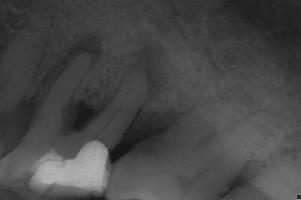Endo-Periodontal Lesion: (72, 100, 97, 127)
Furcation Involvement: (125, 35, 173, 104), (63, 32, 103, 64)
